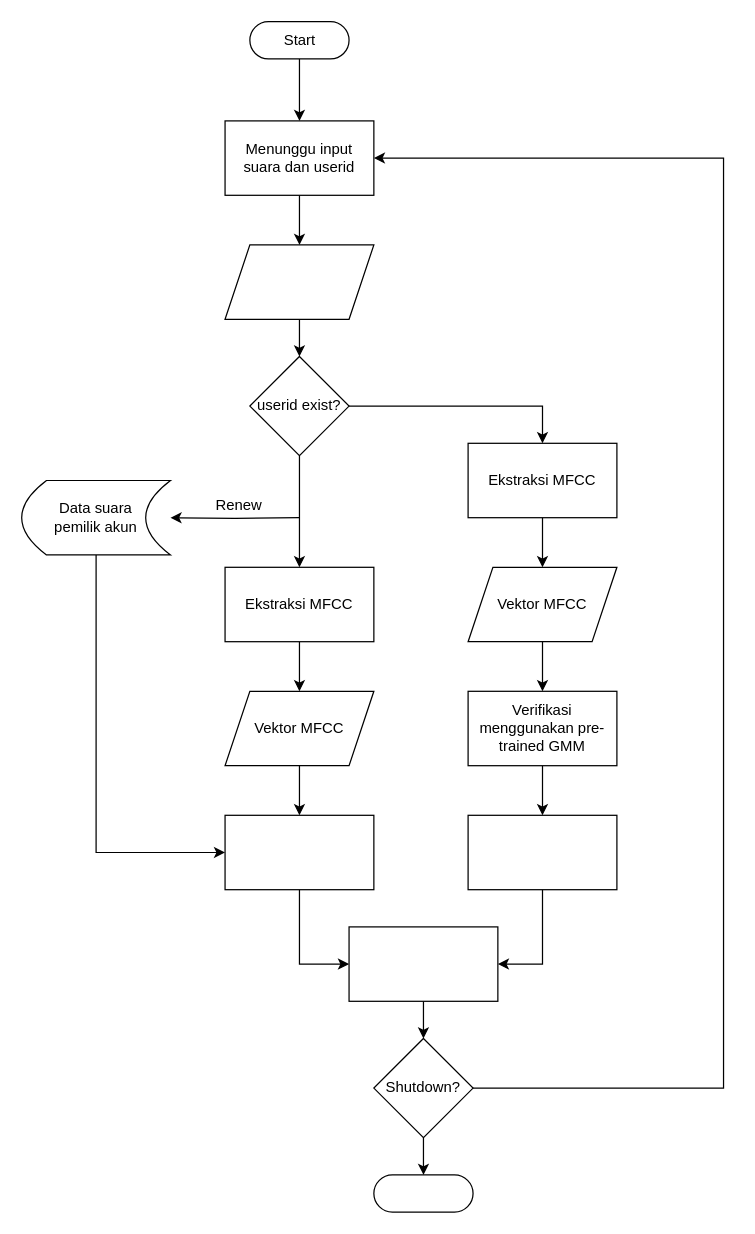
Image size: 755x1234. Some labels were removed from this diagram. The centre of each missing label's shape, as x and y in pixels:
End: point 423,1193
Input data suara dan userid: point 299,281
Menghitung prediksi: point 542,852
Send Result: point 423,963
Training GMM: point 299,852
